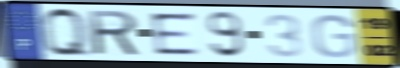3: (263, 12, 303, 58)
9: (204, 9, 247, 60)
E: (147, 11, 203, 56)
G: (309, 13, 358, 60)
Q: (37, 5, 94, 60)
R: (86, 9, 142, 57)
